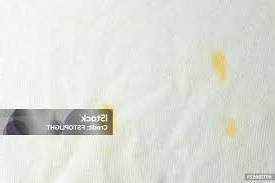mustard: (209, 47, 232, 81), (206, 56, 229, 89), (221, 121, 237, 137), (101, 101, 113, 109)
